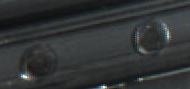joints: (17, 42, 58, 80), (132, 18, 171, 55)
twou: (30, 82, 165, 89)
